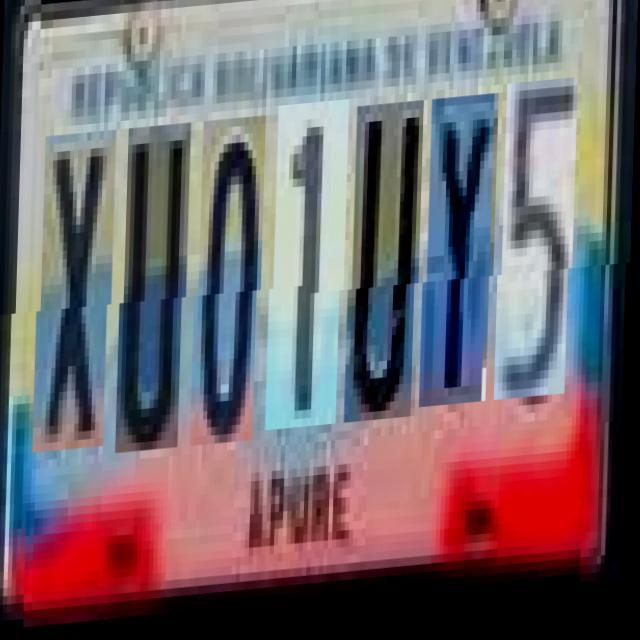1: (272, 107, 350, 436)
5: (501, 89, 578, 410)
O: (197, 121, 267, 450)
U: (351, 108, 425, 430), (122, 127, 192, 456)
X: (39, 132, 117, 453)
Y: (426, 103, 500, 416)
